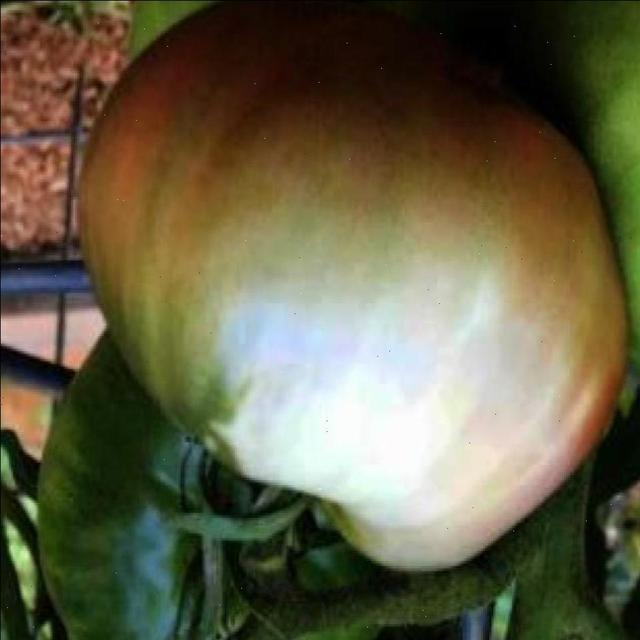Sunscald Fruit: (140, 155, 365, 374)
